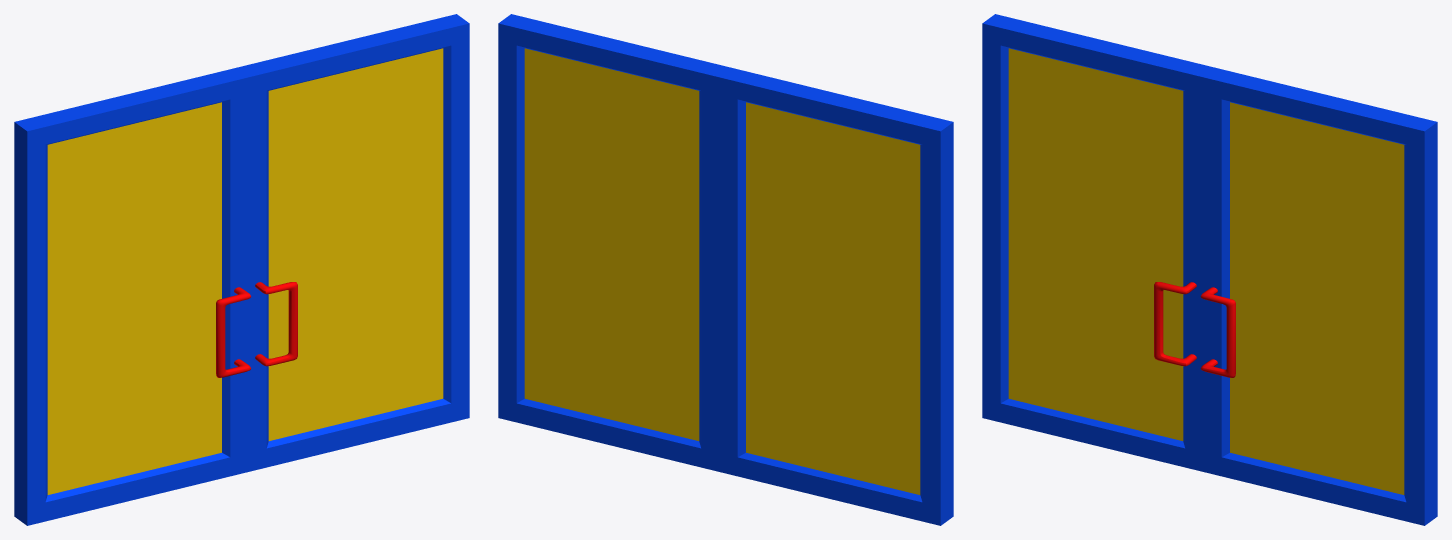
File: PUERTA 1.FBX
The picture shows the model from 3 angles, left to right: view 1: azimuth 30°, elevation 25°; view 2: azimuth 150°, elevation 25°; view 3: azimuth 330°, elevation 25°; orthographic projection.
Parts seen in each view (by area): view 1: Box001; view 2: Box001; view 3: Box001.
Part boxes in pixels (bbox=[...]): Box001: bbox=[14, 14, 469, 525]; Box001: bbox=[498, 14, 953, 525]; Box001: bbox=[982, 14, 1437, 525].
Bounding box in the file's own units: 100 × 85.54 × 9.31.
